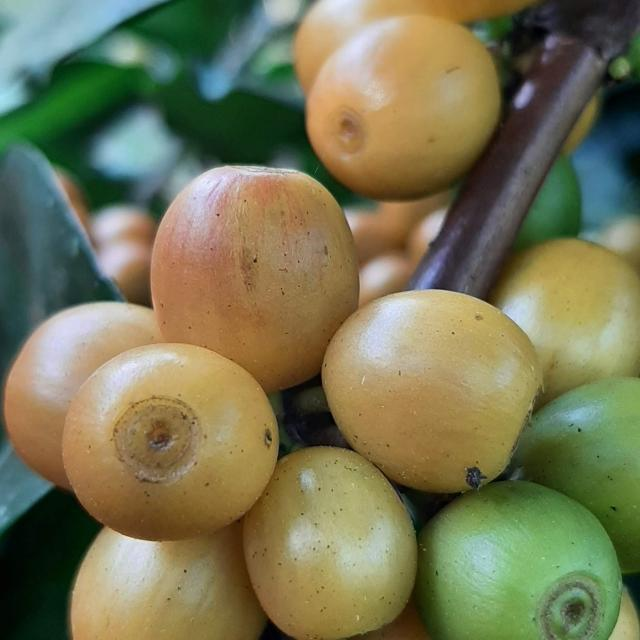red: (151, 166, 359, 391), (322, 290, 543, 494), (62, 344, 278, 542), (307, 14, 501, 200), (243, 447, 418, 640), (3, 302, 163, 491), (491, 239, 640, 408), (69, 522, 266, 640), (294, 0, 430, 94)
yellow: (416, 482, 622, 640), (509, 378, 640, 573)
